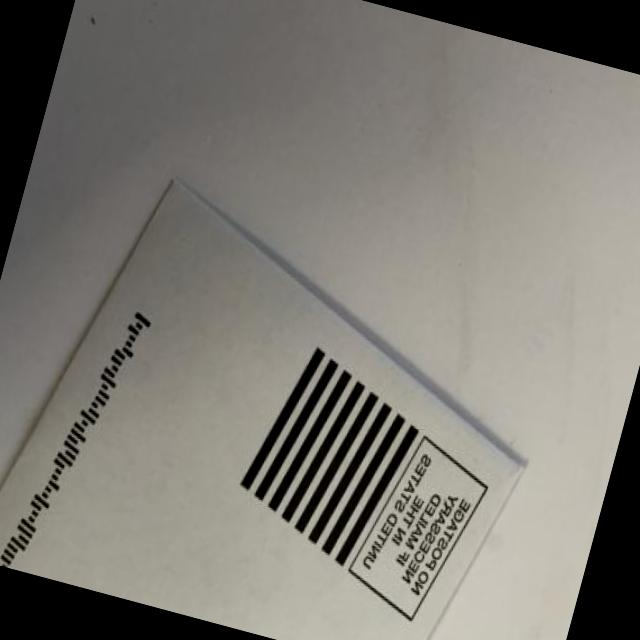giay: (0, 177, 530, 640)
